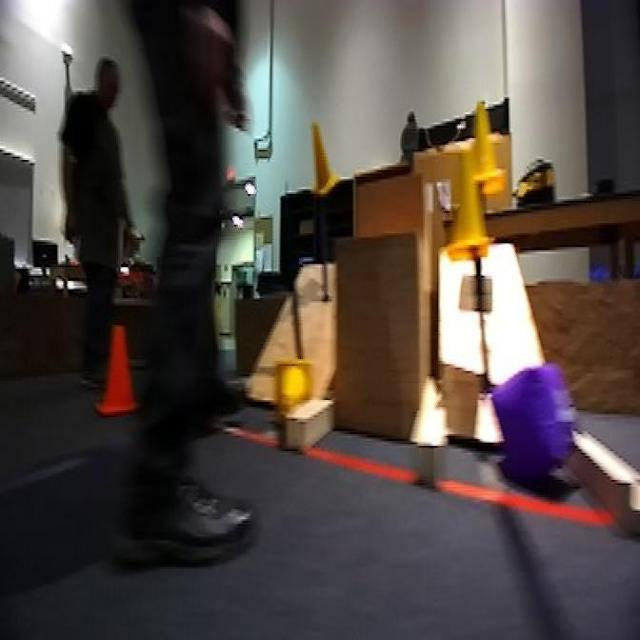frc_cone: (442, 146, 489, 272), (462, 97, 505, 201), (306, 114, 344, 194), (270, 364, 316, 410)
frc_cube: (493, 356, 580, 500)
